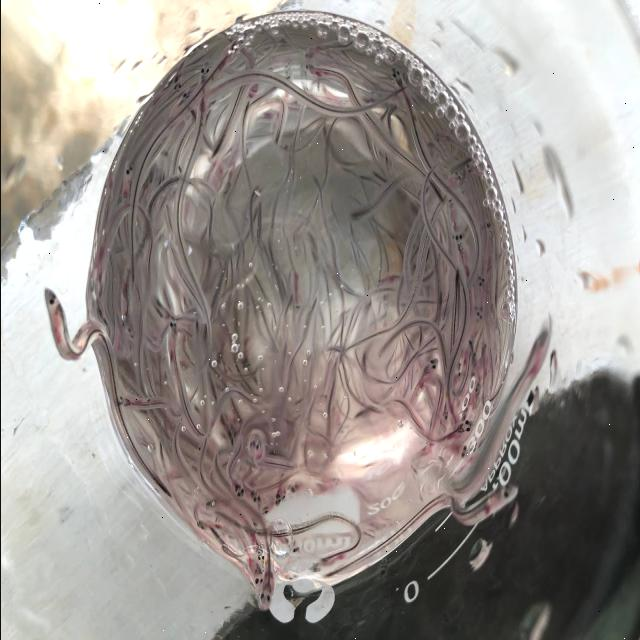glass_eel: (524, 316, 562, 361), (36, 283, 66, 331), (492, 478, 520, 516), (253, 578, 276, 614), (246, 436, 266, 471), (160, 318, 183, 348), (172, 74, 190, 112), (244, 558, 265, 590), (198, 54, 215, 88), (118, 159, 136, 191), (302, 558, 324, 580), (386, 64, 406, 88), (249, 540, 267, 566), (449, 228, 467, 254), (454, 438, 472, 463), (457, 414, 476, 436), (448, 165, 464, 191), (291, 287, 305, 315), (463, 334, 478, 360), (232, 482, 248, 506), (450, 359, 465, 384), (247, 482, 260, 510), (271, 486, 286, 510), (299, 42, 319, 60), (302, 59, 320, 79), (472, 272, 487, 294), (460, 158, 476, 178), (472, 304, 488, 324), (423, 354, 439, 374), (480, 215, 494, 237), (287, 482, 301, 502), (470, 377, 482, 400), (259, 497, 271, 519), (113, 394, 127, 412), (443, 190, 457, 208), (438, 403, 450, 423)
